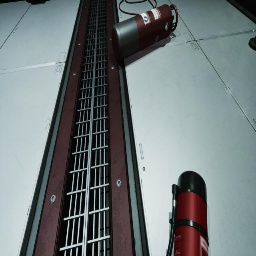FireExtinguisher ]: (166, 170, 208, 256)
NitrogenTank ,: (111, 4, 178, 62)
